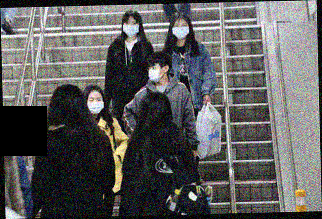with_mask: (85, 95, 105, 115), (171, 21, 191, 39), (122, 18, 140, 38), (147, 63, 163, 84)
